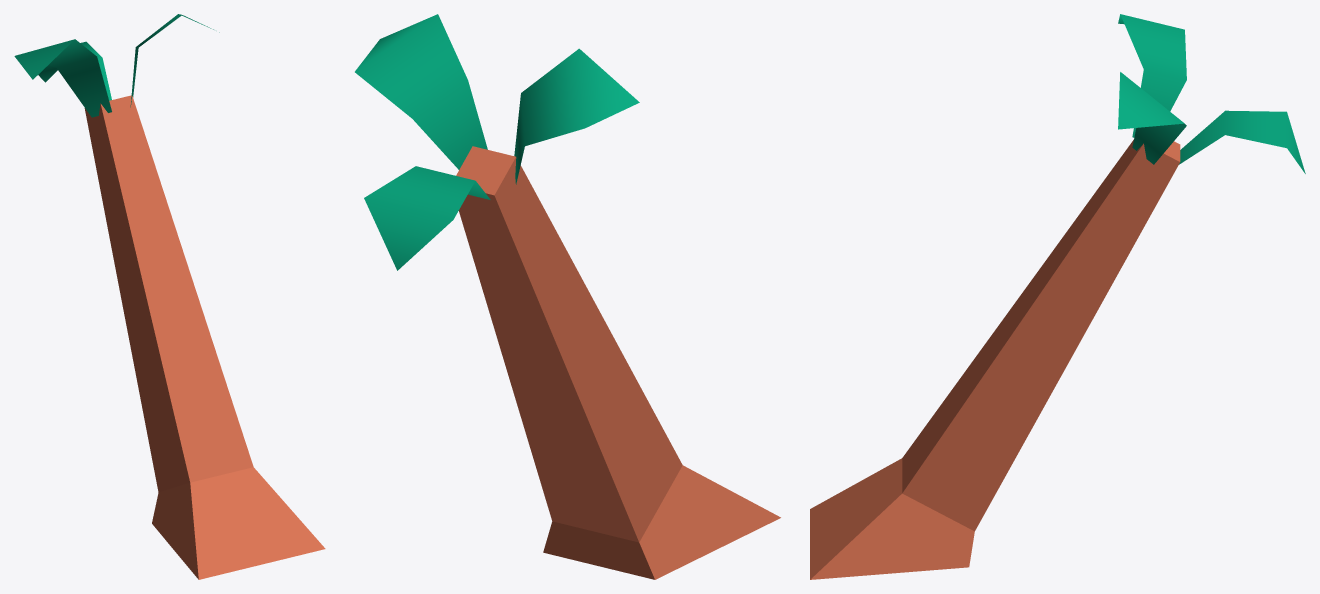
Rendered from Branch.obj.
3 renders of one model, left to right at view 1: azimuth 30°, elevation 25°; view 2: azimuth 150°, elevation 25°; view 3: azimuth 270°, elevation 25°, orthographic. The views are drawn at different scales.
Visible parts, largest first — view 1: mergedBlocks; view 2: mergedBlocks; view 3: mergedBlocks.
Part boxes in pixels (x1=…): mergedBlocks: x1=14, y1=14, x2=325, y2=579; mergedBlocks: x1=355, y1=14, x2=780, y2=579; mergedBlocks: x1=810, y1=14, x2=1305, y2=579.
Bounding box in the file's own units: 0.2241 × 0.4953 × 0.4436.
